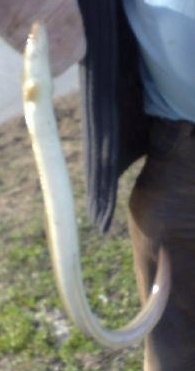Anguilla anguilla: (20, 20, 175, 351)
